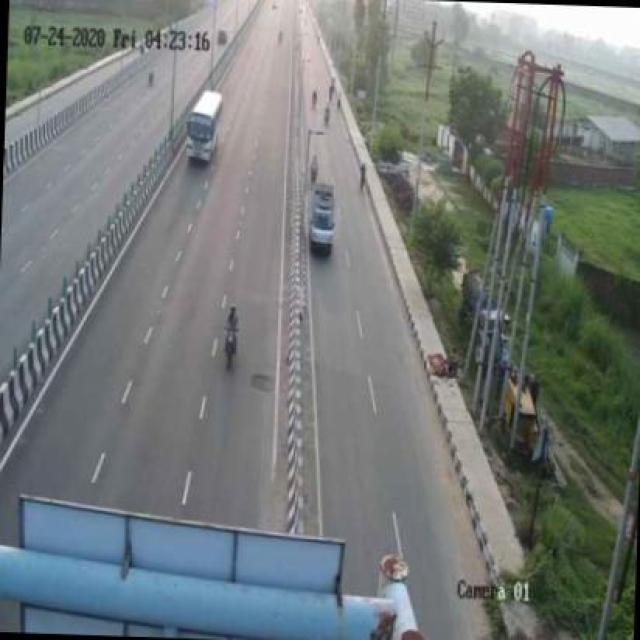car: (301, 165, 348, 256)
